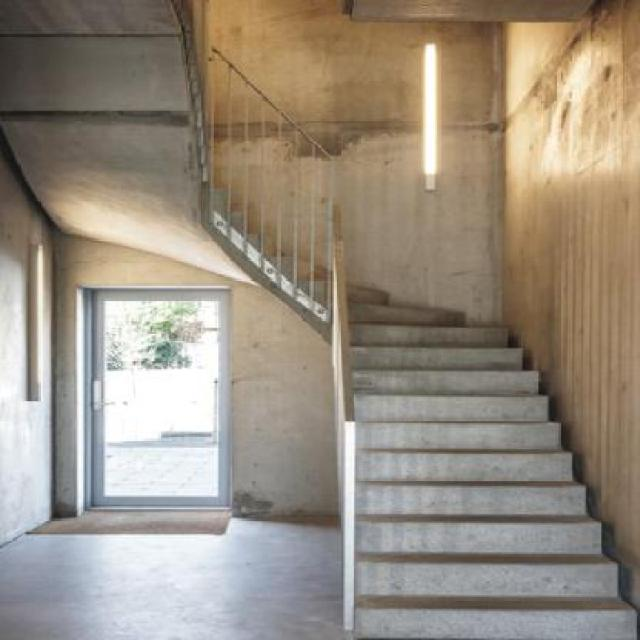stair: (216, 43, 638, 639)
